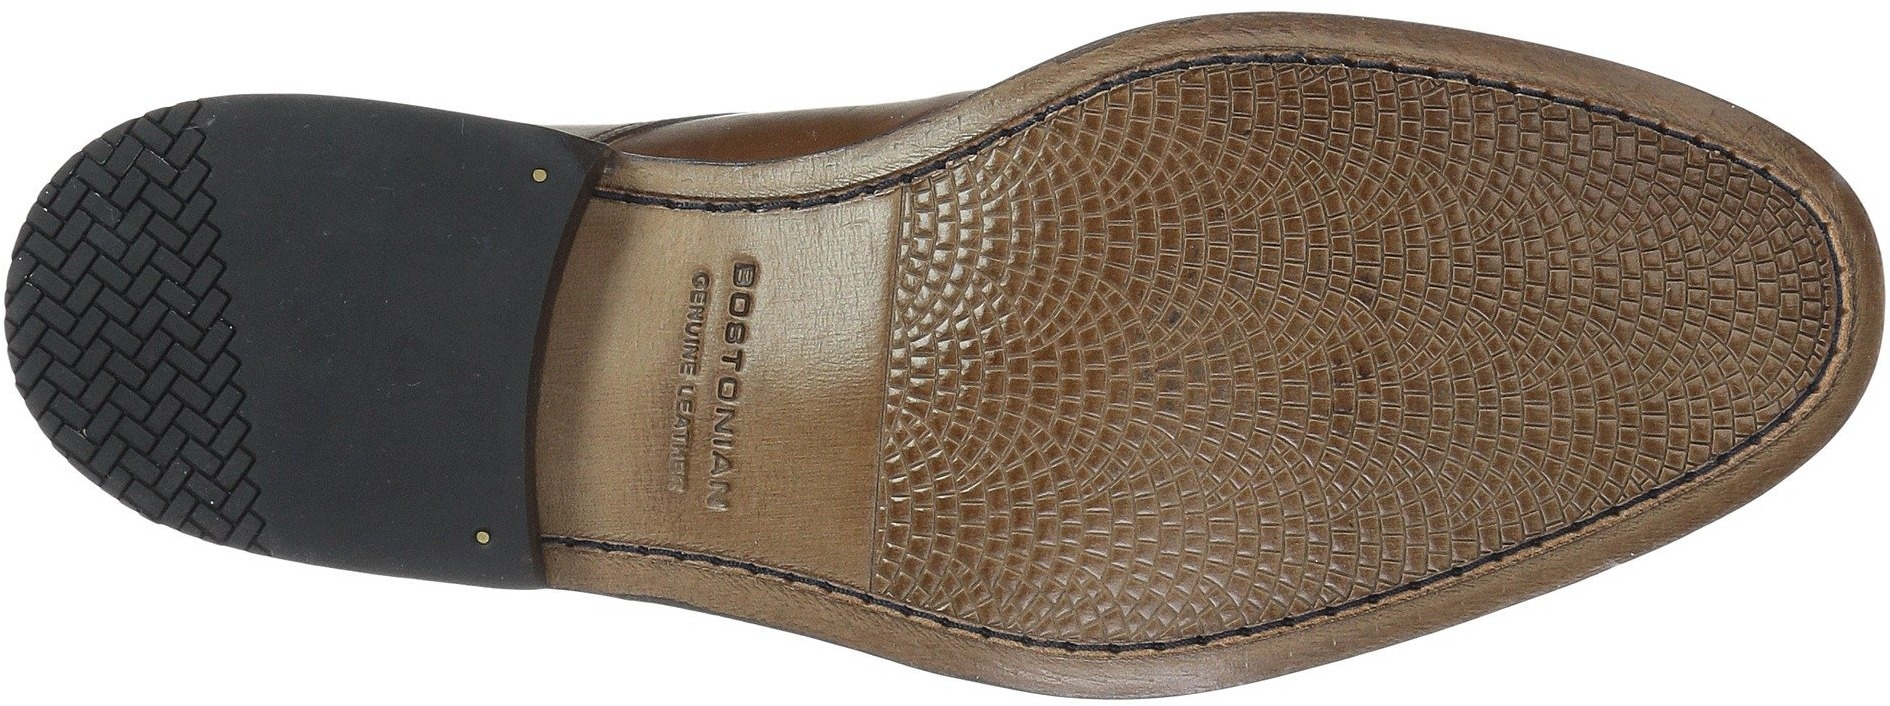chevron: (31, 205, 215, 395), (121, 399, 242, 528)
exclude: (524, 125, 675, 645)
other: (248, 125, 501, 406), (289, 413, 433, 548)
quad: (1437, 133, 1702, 435), (902, 180, 1157, 455), (1161, 82, 1427, 326), (1166, 334, 1426, 579), (31, 205, 215, 395), (994, 469, 1155, 626), (121, 399, 242, 528), (1706, 226, 1822, 348), (1431, 441, 1539, 542)
text: (668, 358, 790, 447), (677, 246, 777, 345), (664, 457, 753, 548)
